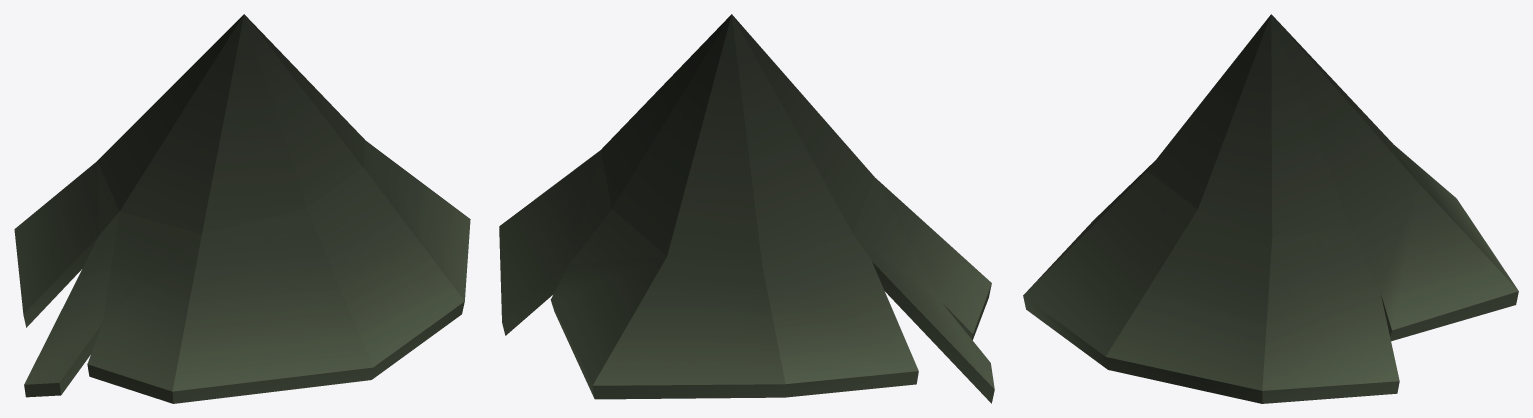
Rendered from Pine-Leaves-01.fbx.
3 views of the same model, side by side, from view 1: azimuth 30°, elevation 25°; view 2: azimuth 150°, elevation 25°; view 3: azimuth 270°, elevation 25° (orthographic). The views are drawn at different scales.
Visible parts, largest first — view 1: Pine-Leaves-01; view 2: Pine-Leaves-01; view 3: Pine-Leaves-01.
Part boxes in pixels (box(x1,y1,x2,y2)): Pine-Leaves-01: box(14, 14, 470, 403); Pine-Leaves-01: box(499, 14, 994, 403); Pine-Leaves-01: box(1023, 14, 1518, 403).
Bounding box in the file's own units: 454 × 303 × 414.
1 material, 1 textured.
